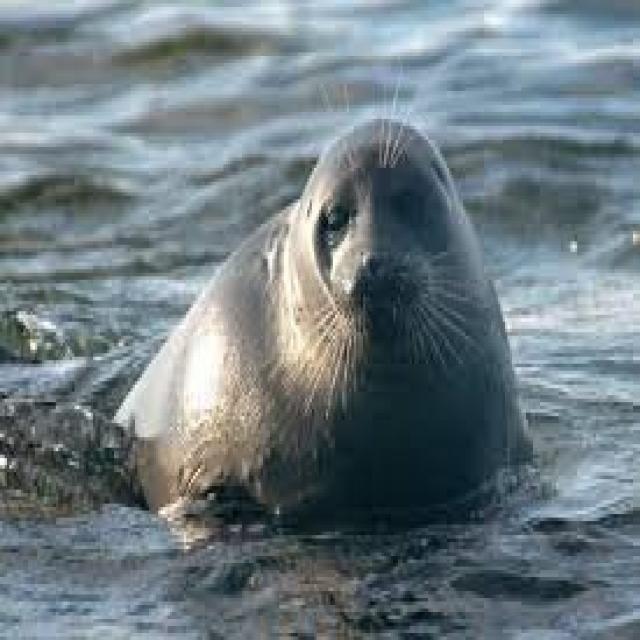seal: (114, 119, 528, 511)
